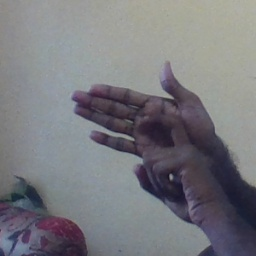R: (65, 60, 217, 195)
